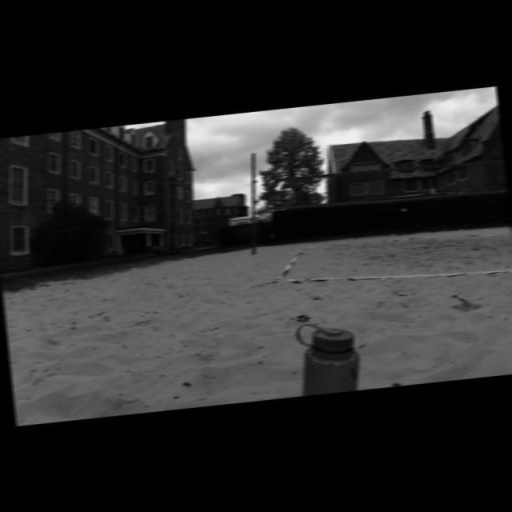bottle: (293, 317, 364, 397)
